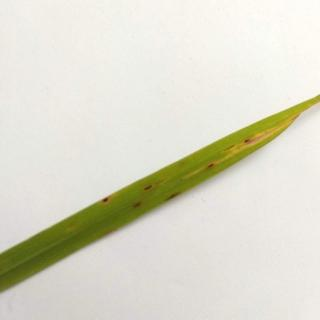bercak-Cokelat: (225, 137, 258, 154), (164, 189, 184, 206), (203, 162, 223, 176), (97, 195, 114, 208), (130, 200, 146, 212), (142, 184, 159, 195)
